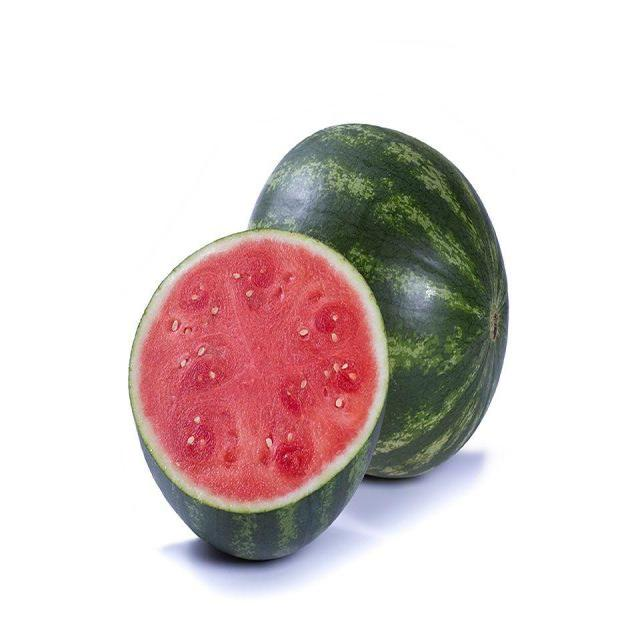watermelon: (239, 117, 512, 486), (126, 222, 394, 568)
